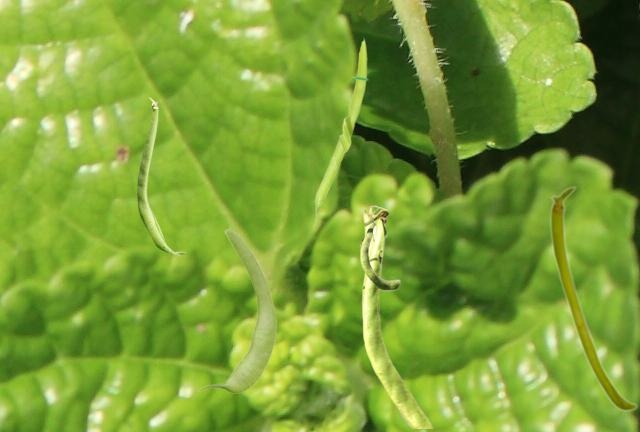french_bean: (549, 185, 637, 411), (359, 205, 432, 427), (197, 226, 276, 392), (312, 36, 368, 228), (137, 97, 185, 254)
